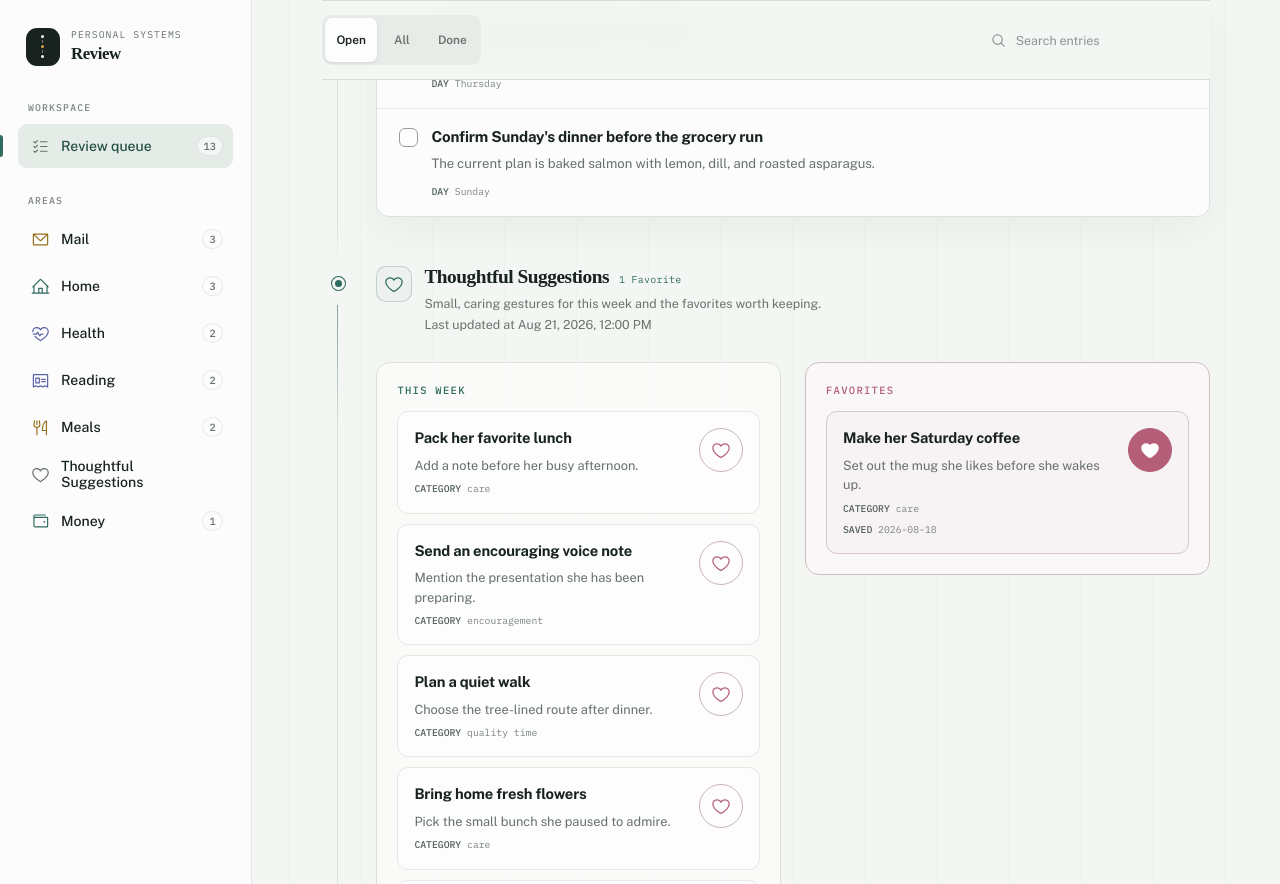
Test: ReviewApp › upserts a successful add after a whole-snapshot reload removed its optimistic Favorite
The image size is (1280, 884).
(page scrolled)
Click the button named "Add Pack her favorite lunch to Favorites" at (721,450), box [699, 428, 743, 472]
(page scrolled)
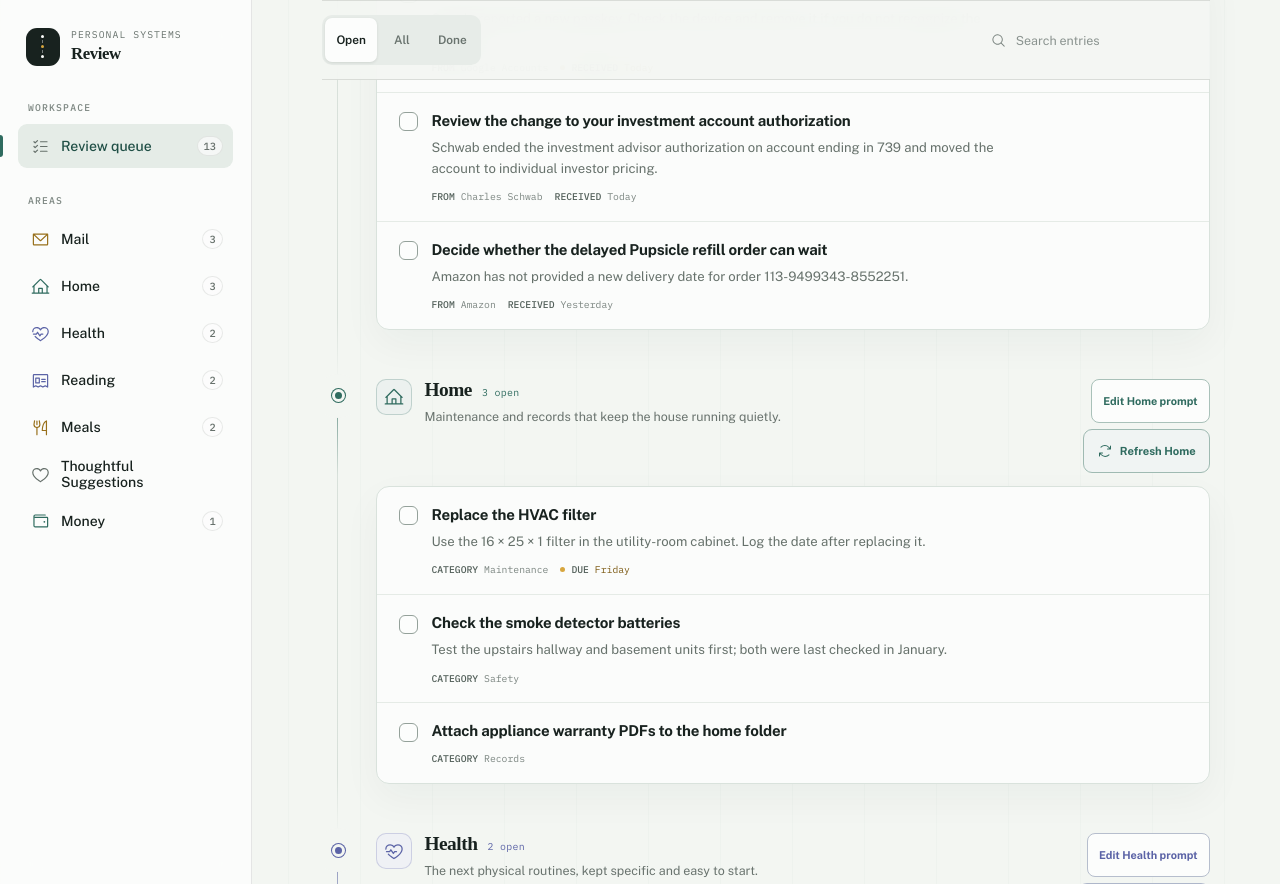
Click the button "Refresh Home" at (1146,451), box [1083, 429, 1210, 473]
(page scrolled)
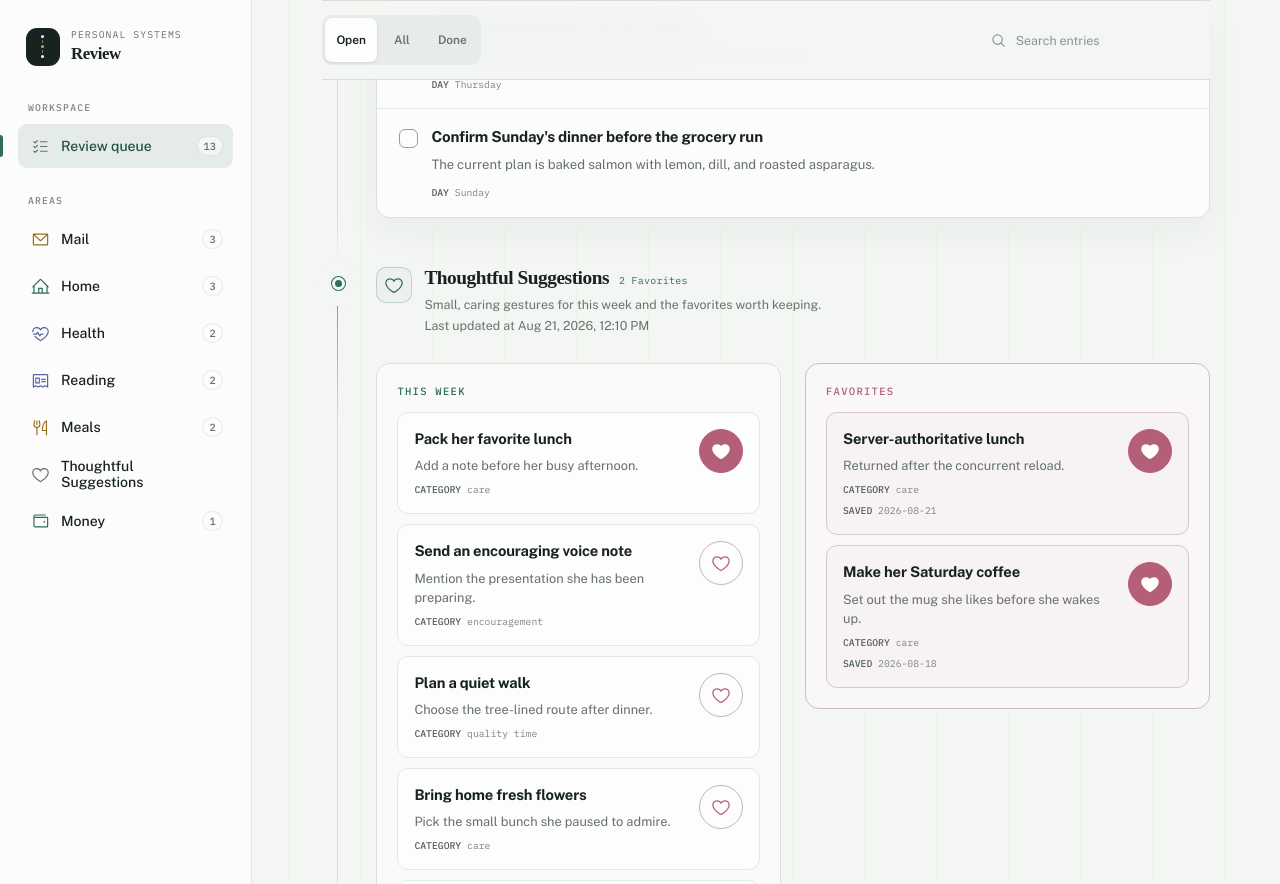
Check: the heading "Server-authoritative lunch" is shown, box [843, 430, 1024, 447]
